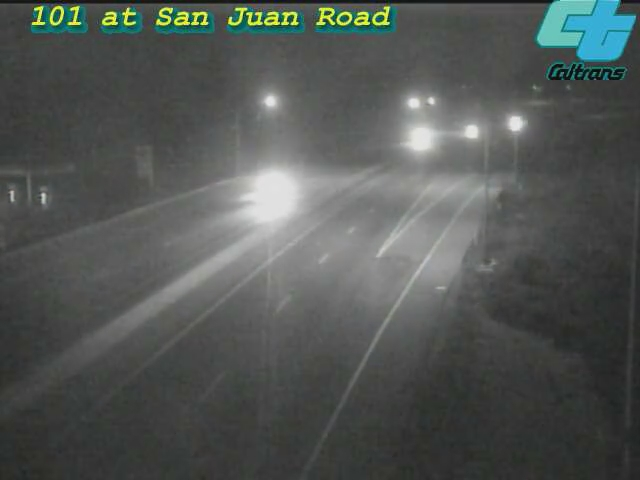vehicle: (227, 154, 307, 234), (397, 113, 447, 163), (453, 104, 503, 154), (494, 98, 544, 148)
